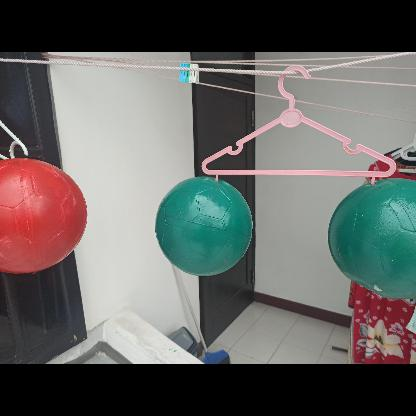green_ball: (154, 175, 252, 273)
